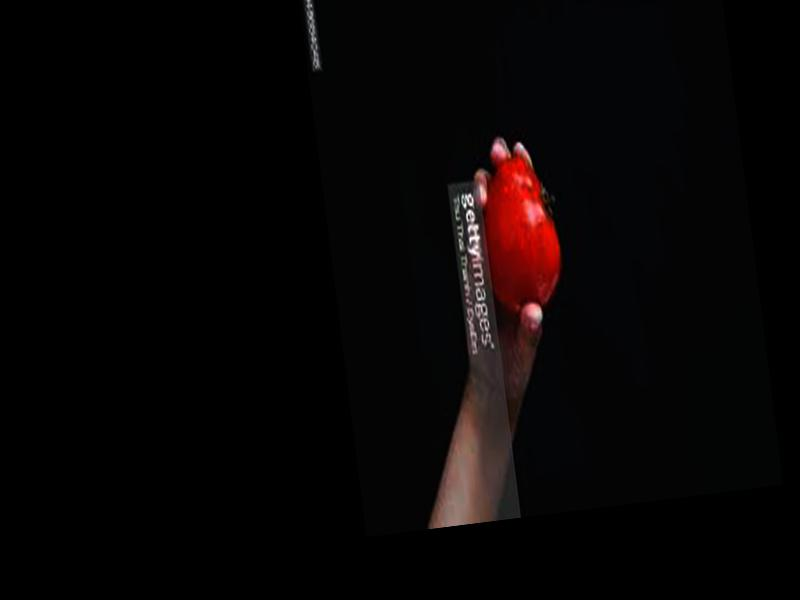Tomato: (472, 147, 567, 311)
